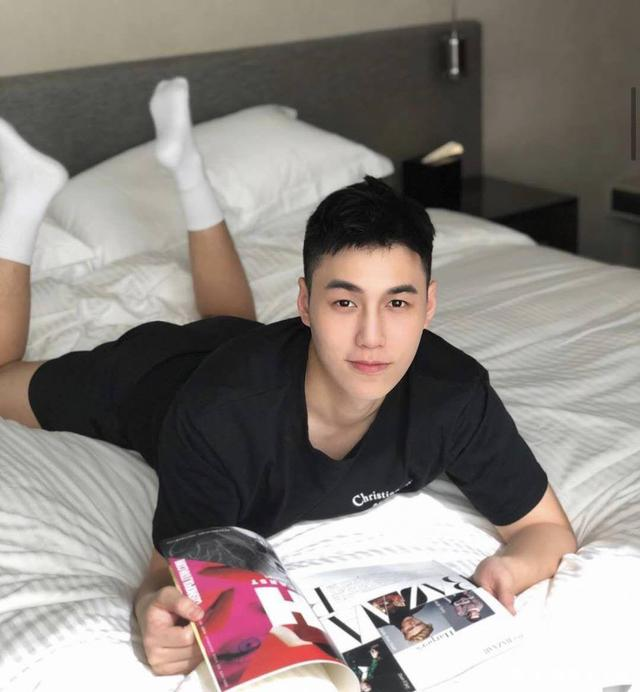person: (218, 136, 502, 410)
